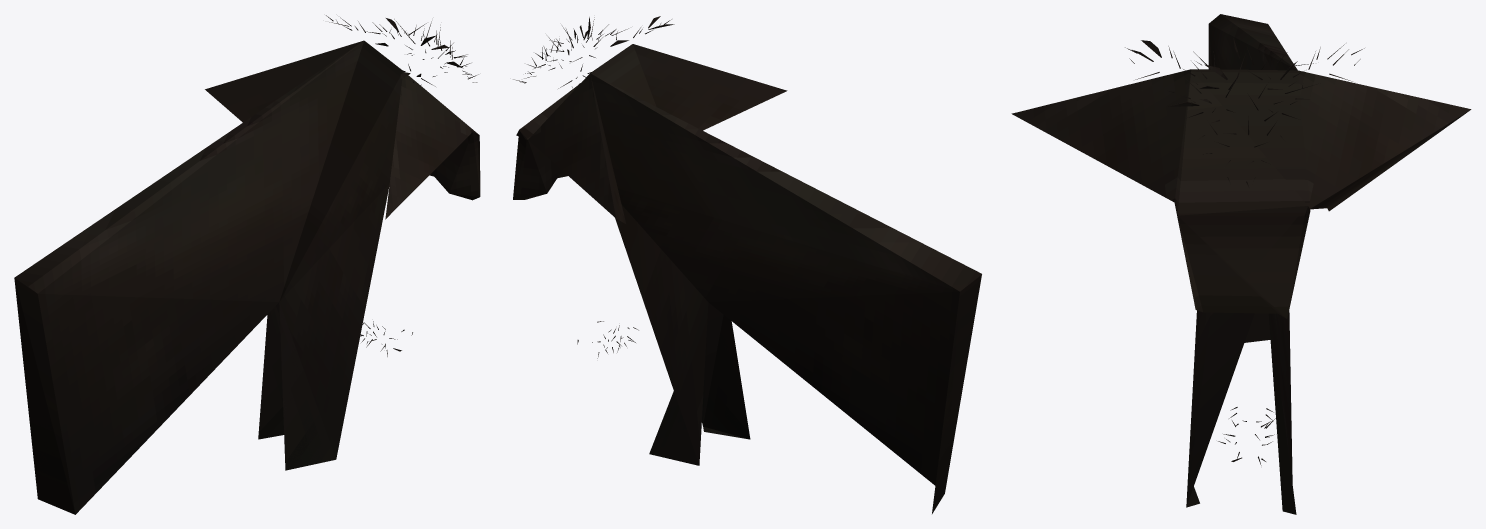
3 renders of one model, left to right at view 1: azimuth 30°, elevation 25°; view 2: azimuth 150°, elevation 25°; view 3: azimuth 270°, elevation 25°, orthographic. The views are drawn at different scales.
Visible parts, largest first — view 1: Object_7; view 2: Object_7; view 3: Object_7.
Part boxes in pixels (left/top/right/bottom): Object_7: left=14, top=15, right=480, bottom=514; Object_7: left=513, top=16, right=981, bottom=513; Object_7: left=1011, top=14, right=1471, bottom=514.
Bounding box in the file's own units: 109 × 88.22 × 71.8.
Materials: 1 (1 with a texture image).
